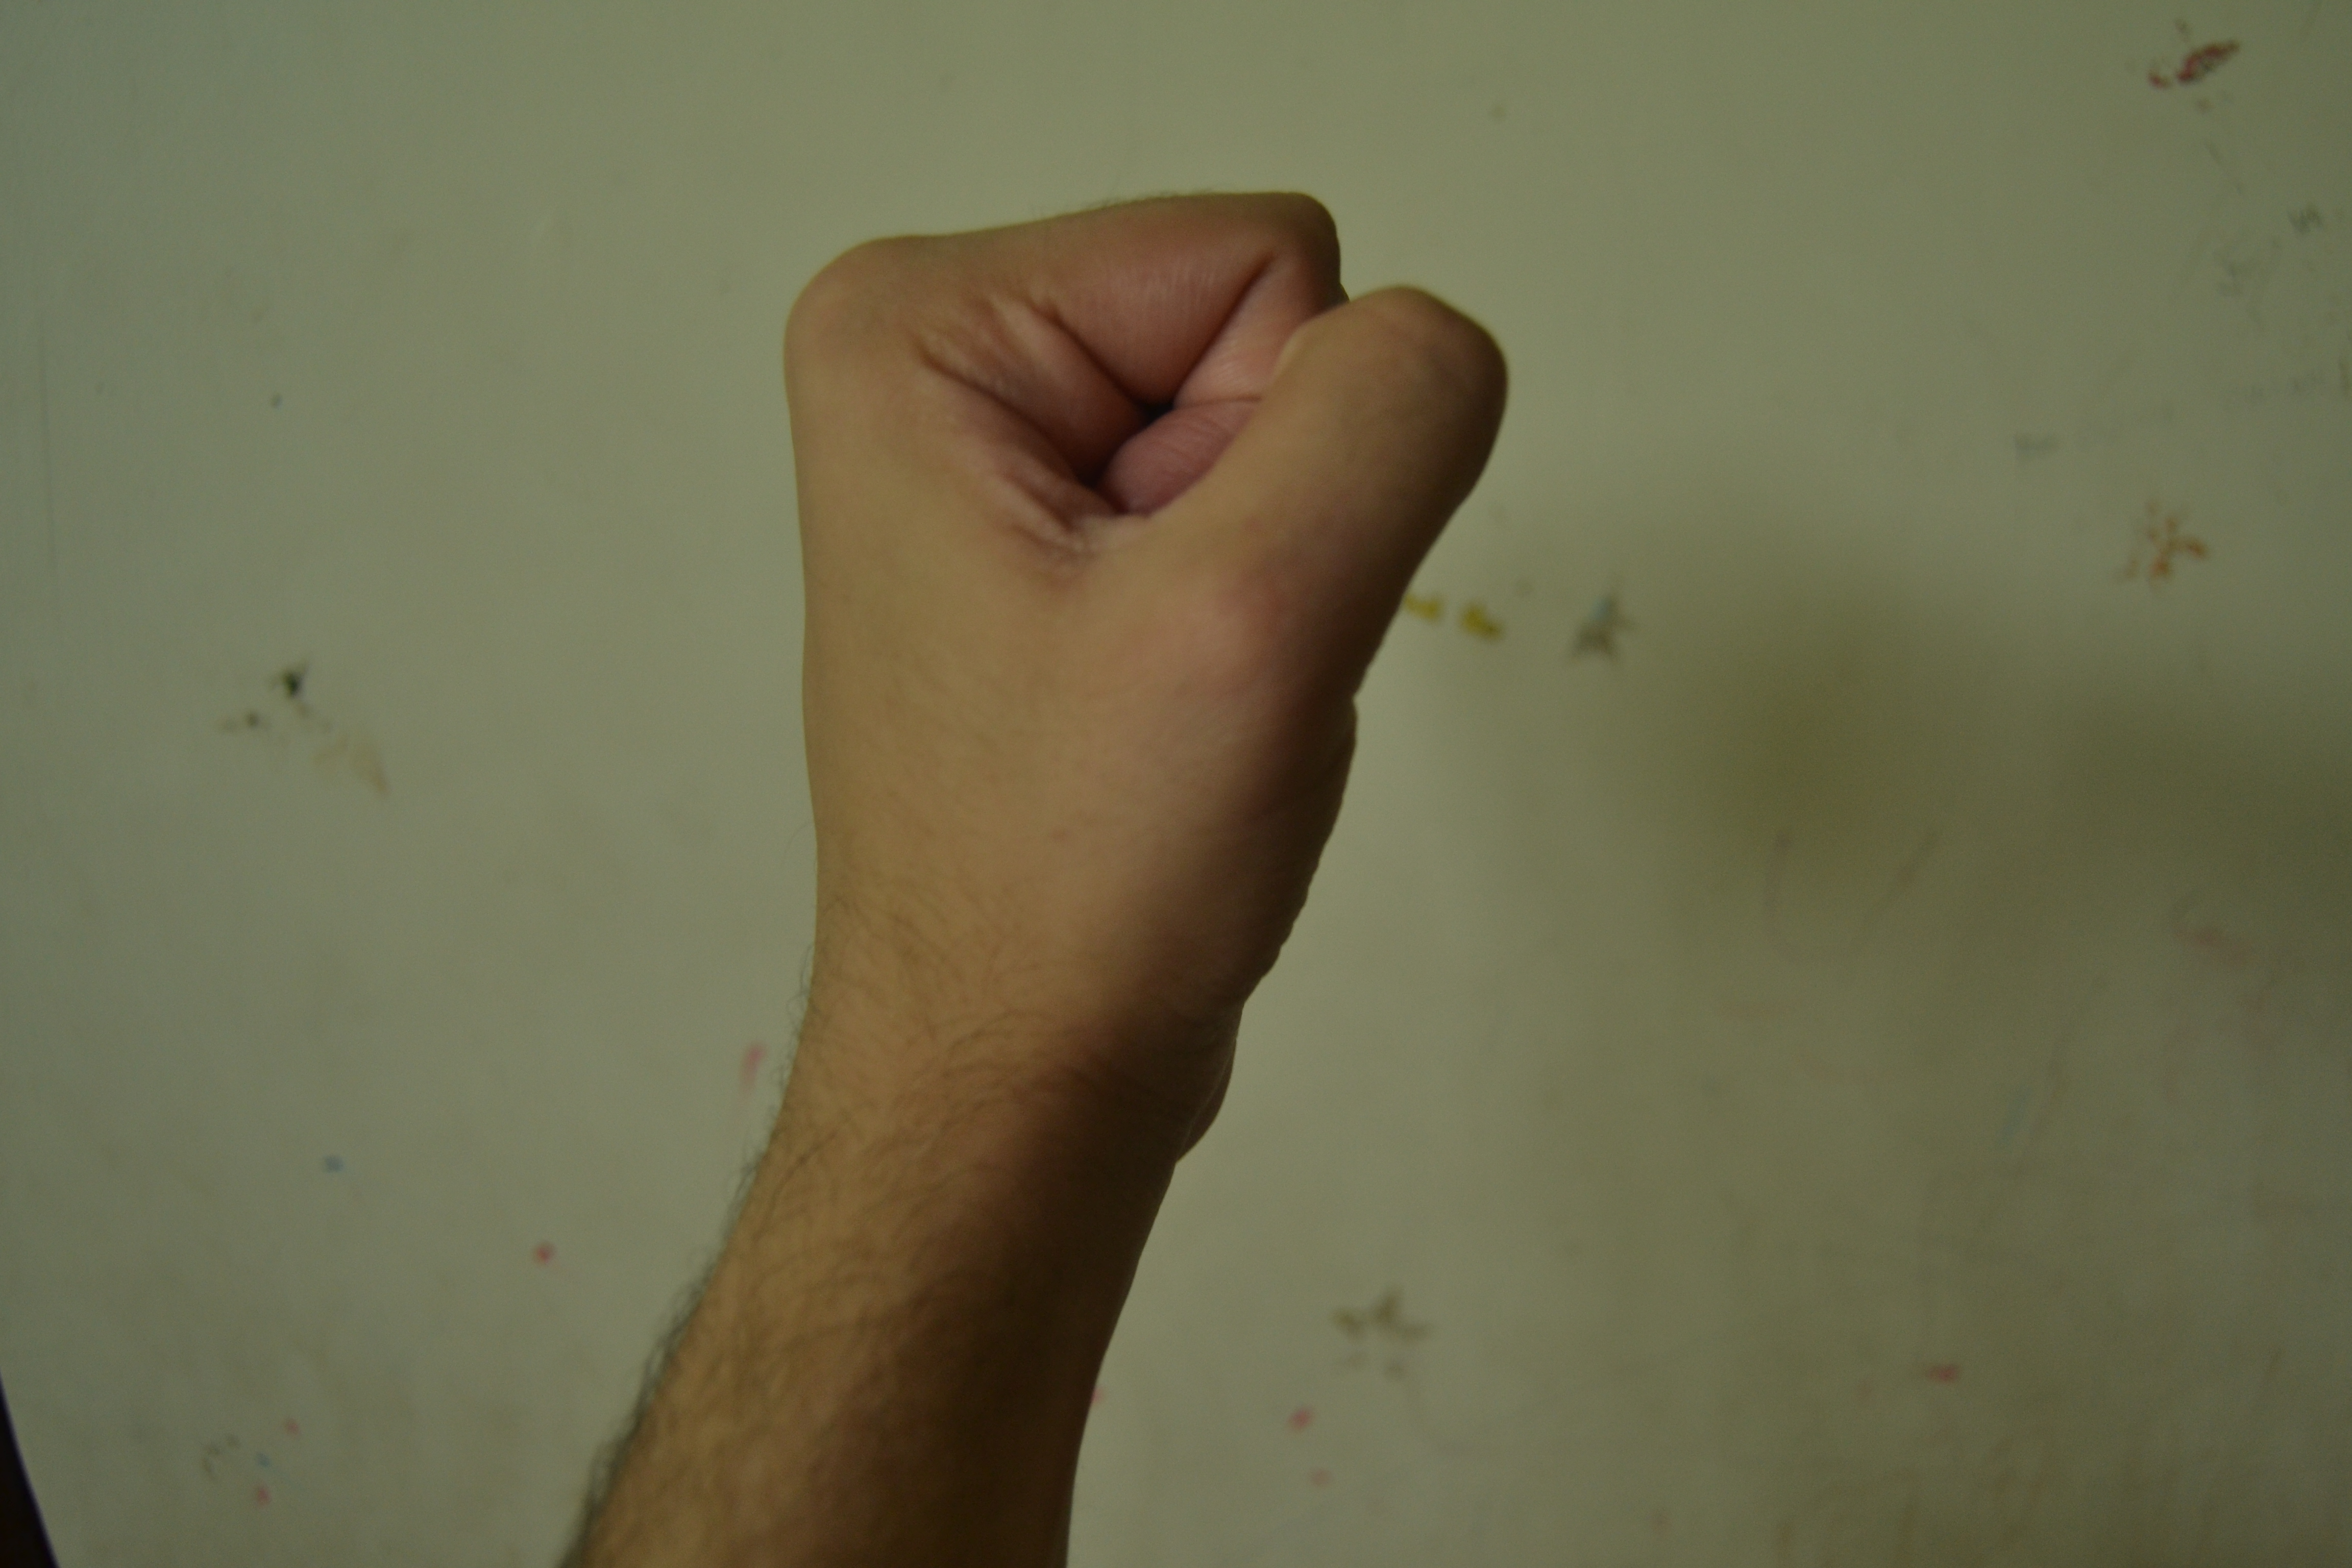click: (726, 171, 1598, 1493)
